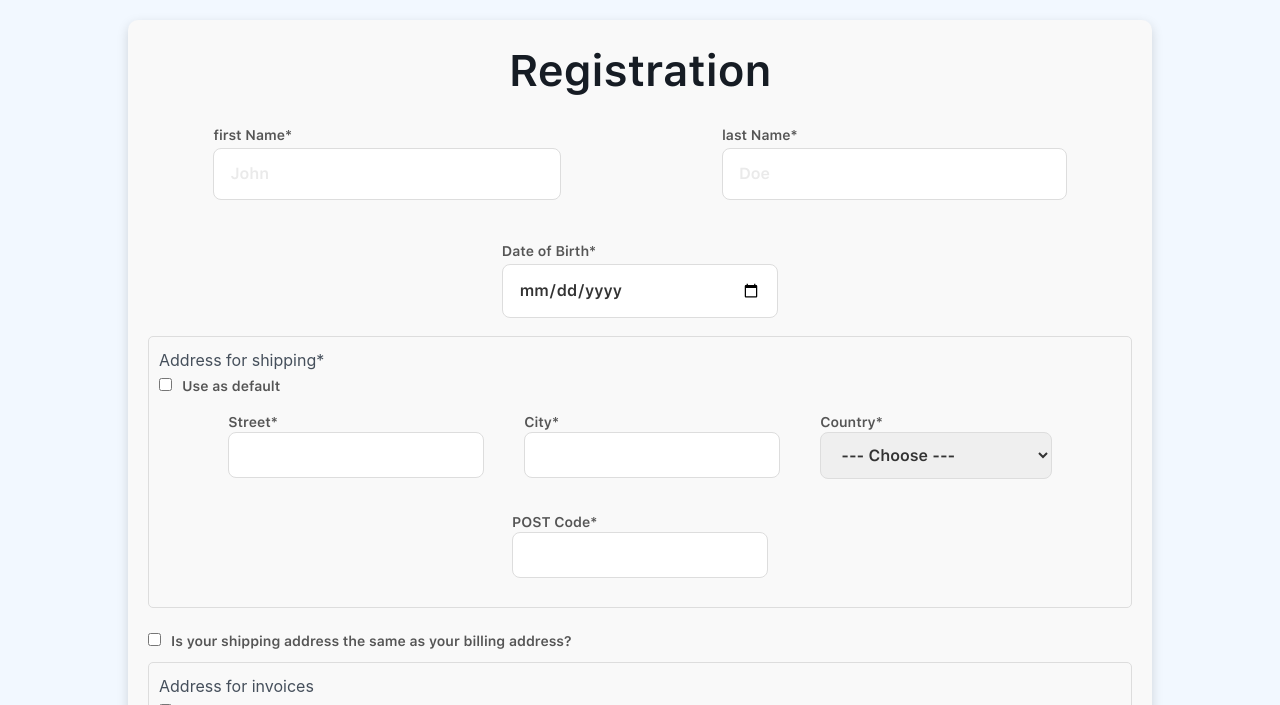
checking input wrong value on Registration page › checking input wrong value for first name on Registration page
In the field with id "firstName": x=387, y=174 top-left (214, 148), bottom-right (561, 200), type "Jo5n"
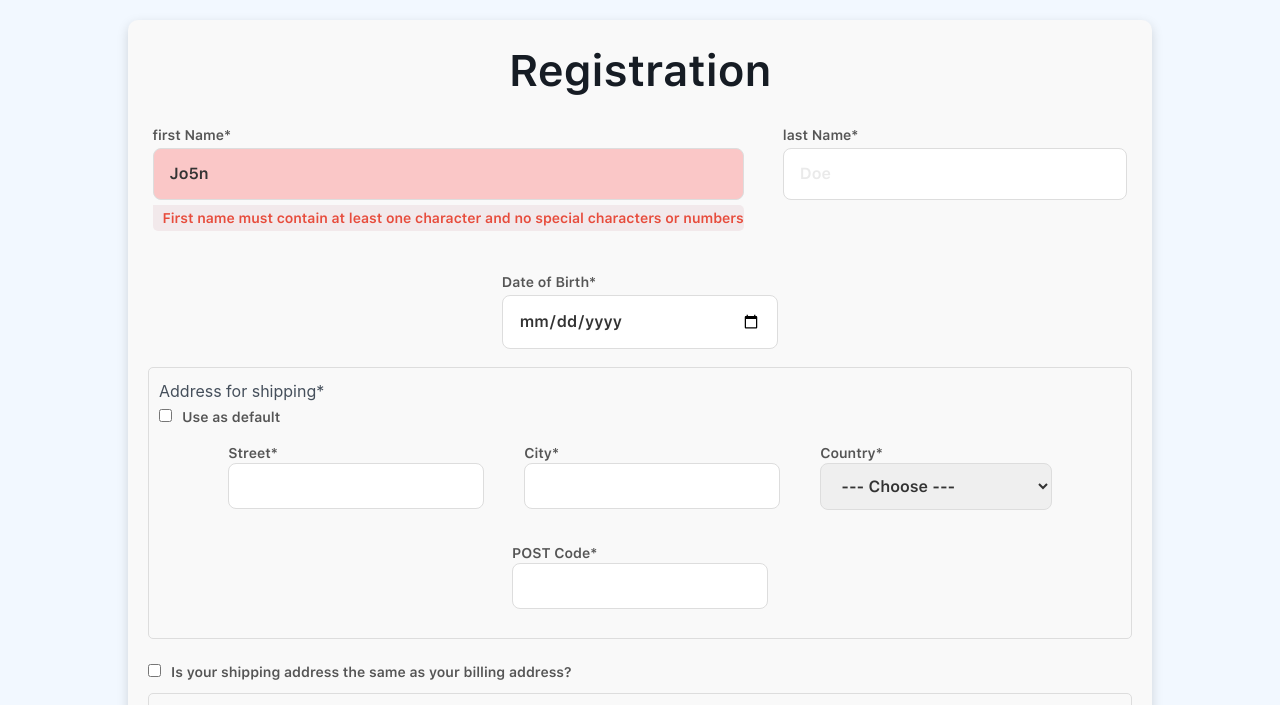
Now the text "First name must contain at least one character and no special characters or numbers" is shown, box top-left (162, 210), bottom-right (744, 226)
